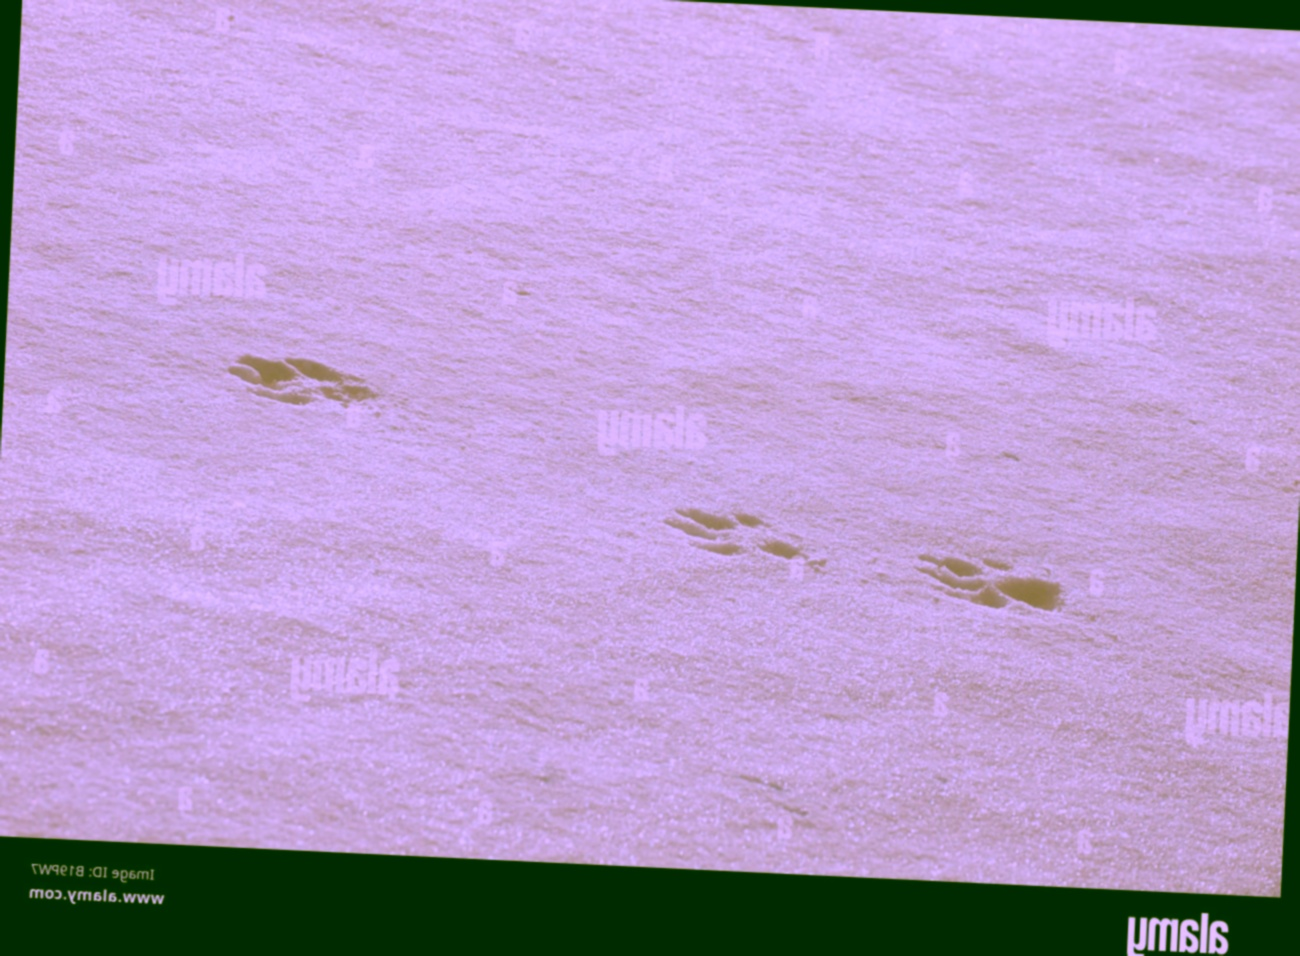loup: (200, 306, 410, 448), (654, 475, 827, 593), (904, 524, 1071, 641)
